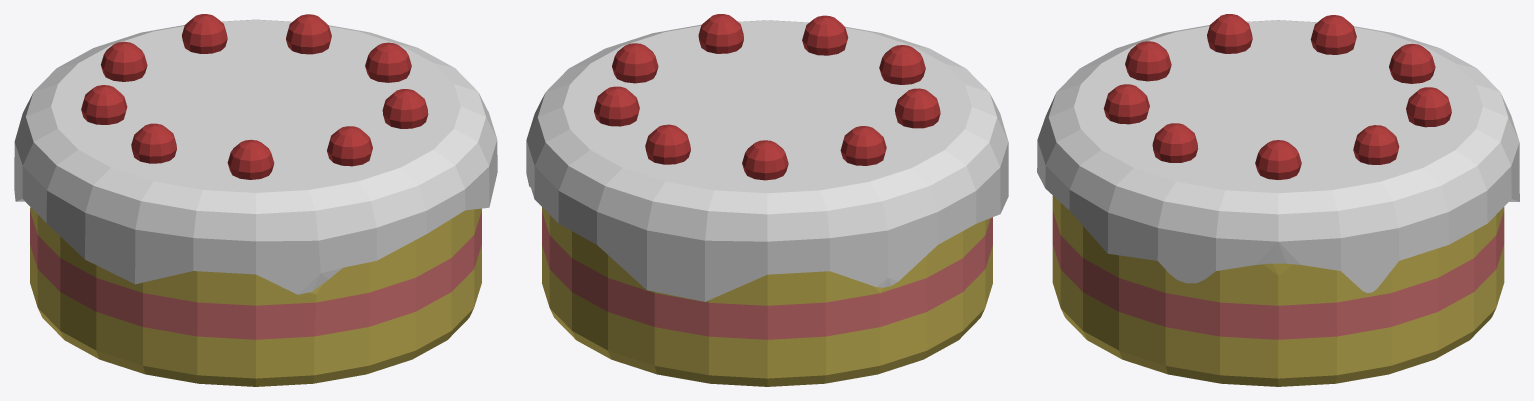
The model's file is SM_Tiorta.fbx.
3 renders of one model, left to right at view 1: azimuth 30°, elevation 25°; view 2: azimuth 150°, elevation 25°; view 3: azimuth 270°, elevation 25°, orthographic.
Visible parts, largest first — view 1: Cylinder.002; view 2: Cylinder.002; view 3: Cylinder.002.
Boxes of the visible parts, x1,y1,x2,y2 form: Cylinder.002: (14,14,497,386); Cylinder.002: (526,14,1008,386); Cylinder.002: (1037,14,1519,386).
Bounding box in the file's own units: 63.03 × 31.79 × 63.07.
